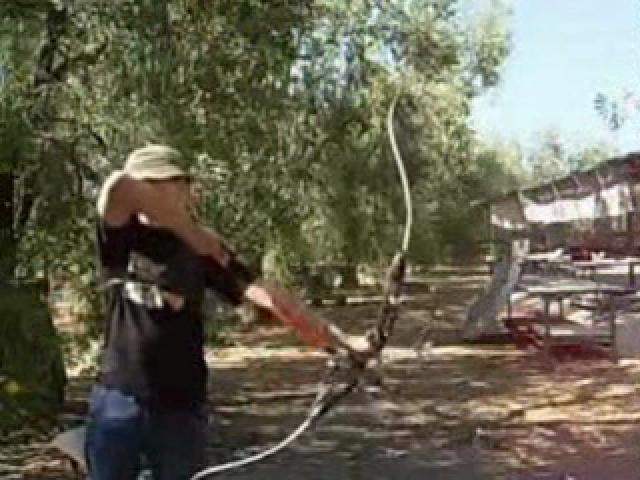I: (56, 135, 364, 480)
